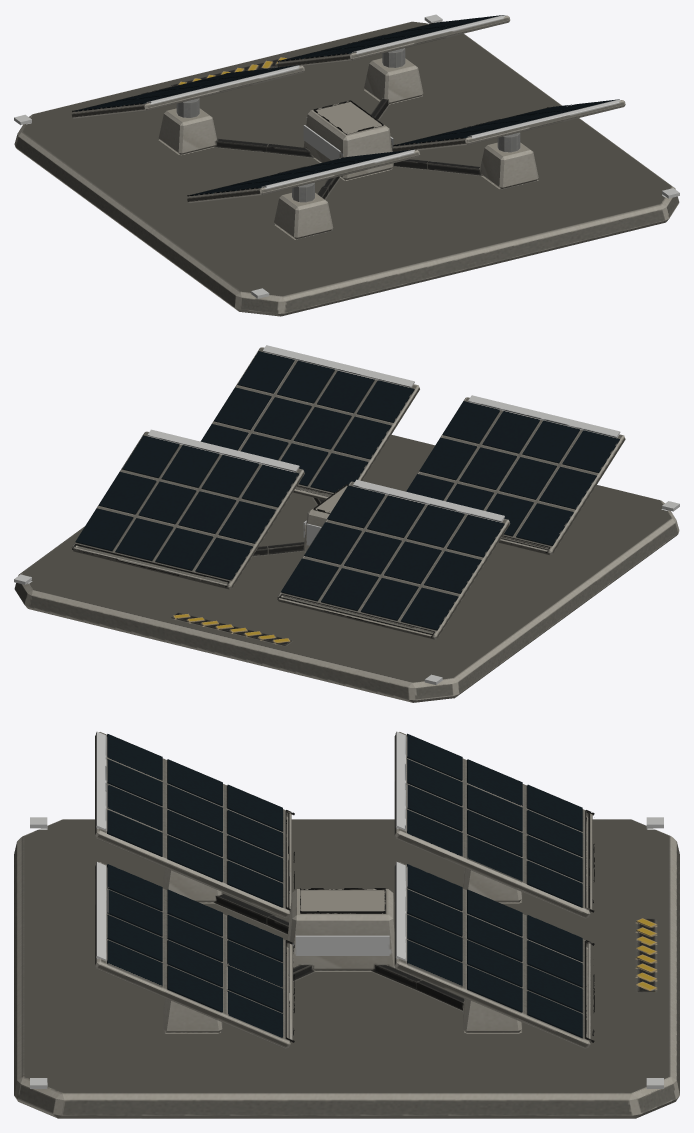
File: ord_solar.fbx
The picture shows the model from 3 angles, top to bottom: view 1: azimuth 30°, elevation 25°; view 2: azimuth 150°, elevation 25°; view 3: azimuth 270°, elevation 25°; orthographic projection. The views are drawn at different scales.
Visible parts, largest first — view 1: base_bar, base_glow_running_bar, base_glow_power_bar; view 2: base_bar, base_glow_running_bar; view 3: base_bar, base_glow_running_bar, base_glow_power_bar.
Boxes of the visible parts, box(x1,y1,x2,y2) form: base_bar: box(14, 15, 679, 316); base_glow_running_bar: box(14, 14, 679, 298); base_glow_power_bar: box(303, 117, 393, 160); base_bar: box(14, 347, 679, 702); base_glow_running_bar: box(14, 345, 679, 684); base_bar: box(14, 732, 679, 1118); base_glow_running_bar: box(30, 731, 663, 1088); base_glow_power_bar: box(295, 935, 389, 955).
Bounding box in the file's own units: 1555 × 550 × 1555.
2 materials, 2 textured.
